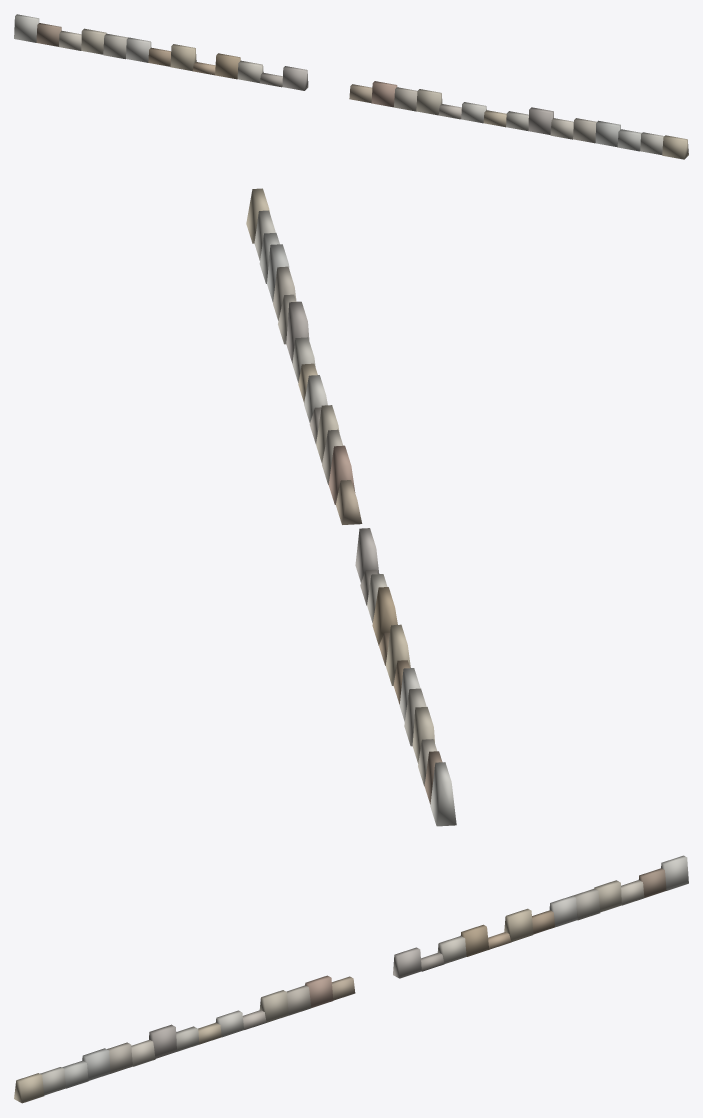
The model's file is farm_8_7_collision.glb.
3 renders of one model, top to bottom at view 1: azimuth 30°, elevation 25°; view 2: azimuth 150°, elevation 25°; view 3: azimuth 270°, elevation 25°, orthographic. The views are drawn at different scales.
Parts seen in each view (by area): view 1: geometry_0; view 2: geometry_0; view 3: geometry_0.
Part boxes in pixels (x1,y1,x2,y2): geometry_0: (14, 14, 688, 159); geometry_0: (246, 188, 456, 826); geometry_0: (14, 855, 688, 1103).
Size of the model in its own units: 29.04 by 1.75 by 37.59.
